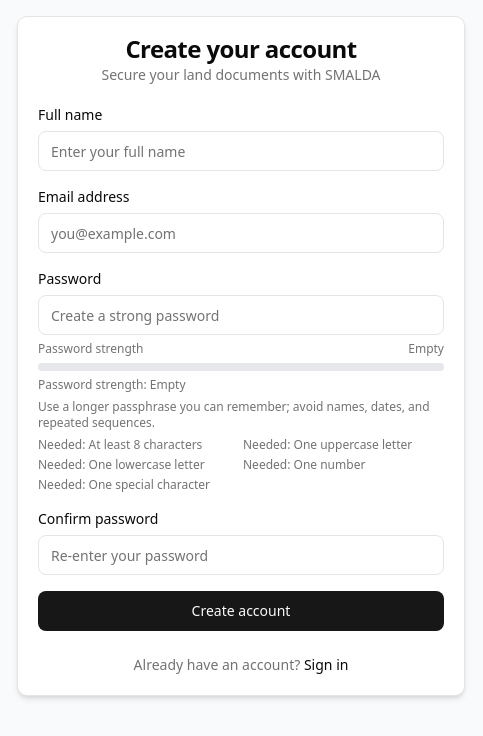
Scenario: RegisterForm › validates a password mismatch before making a request
Step 1. Type "Ada Lovelace" into the field labelled "Full name" → {"x": 241, "y": 151}, box [38, 131, 444, 171]
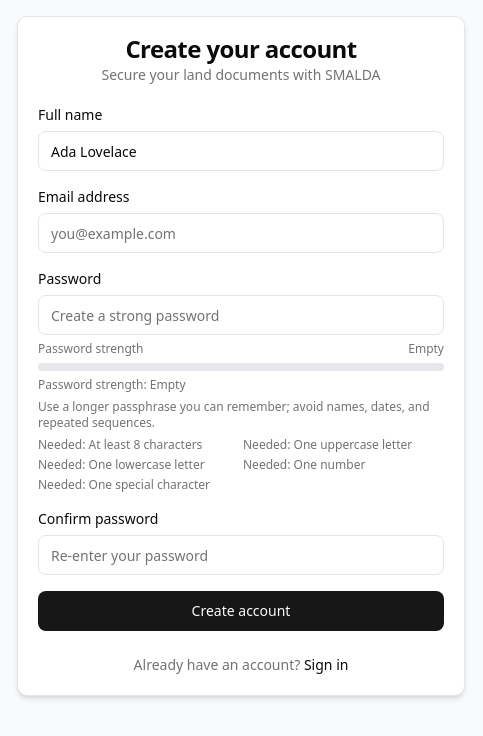
Step 2. Type "ada@example.com" into the field labelled "Email address" → {"x": 241, "y": 233}, box [38, 213, 444, 253]
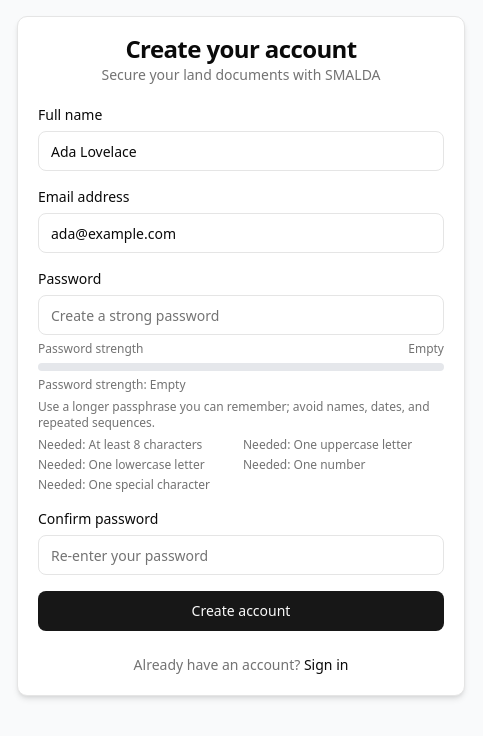
Step 3. Type "V7!qL9#mZ2@pR4" into the password field labelled "Password" → {"x": 241, "y": 315}, box [38, 295, 444, 335]
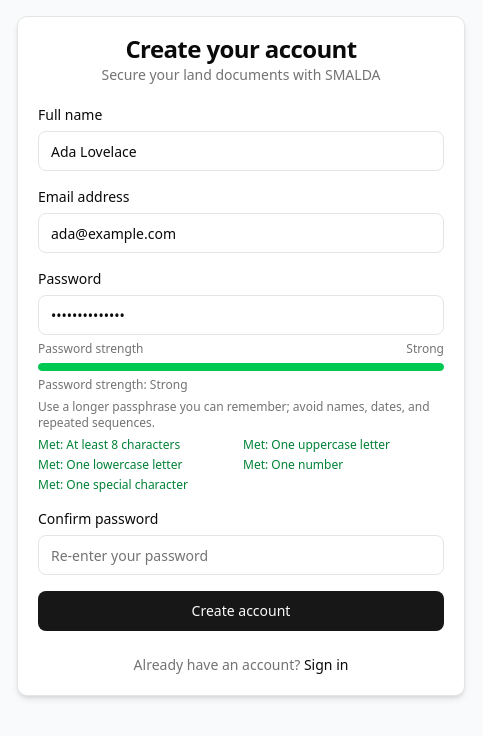
Step 4. Type "Different1!" into the password field labelled "Confirm password" → {"x": 241, "y": 555}, box [38, 535, 444, 575]
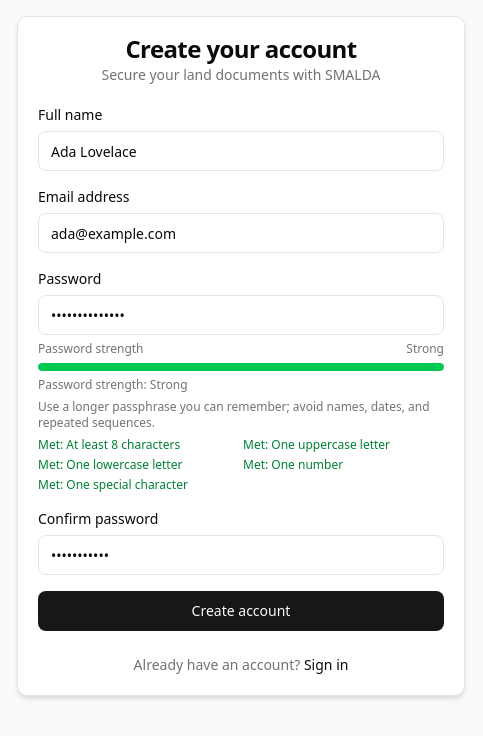
Step 5. Click the button "Create account" → {"x": 241, "y": 611}, box [38, 591, 444, 631]
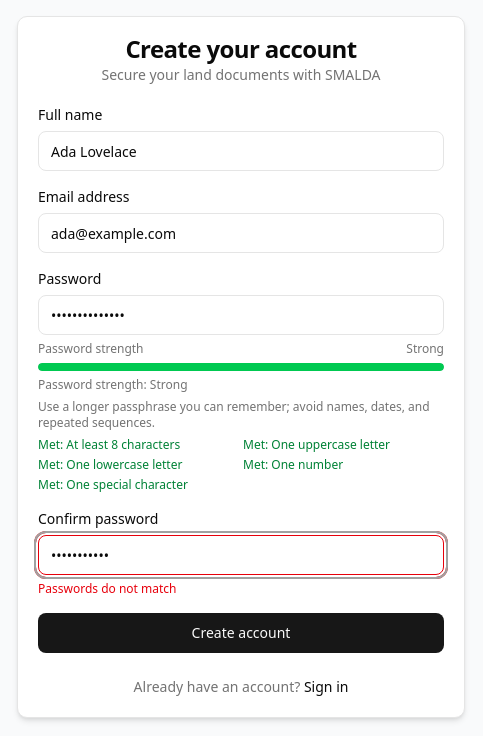
Expected: the text "Passwords do not match" is shown, [38, 580, 176, 597]
